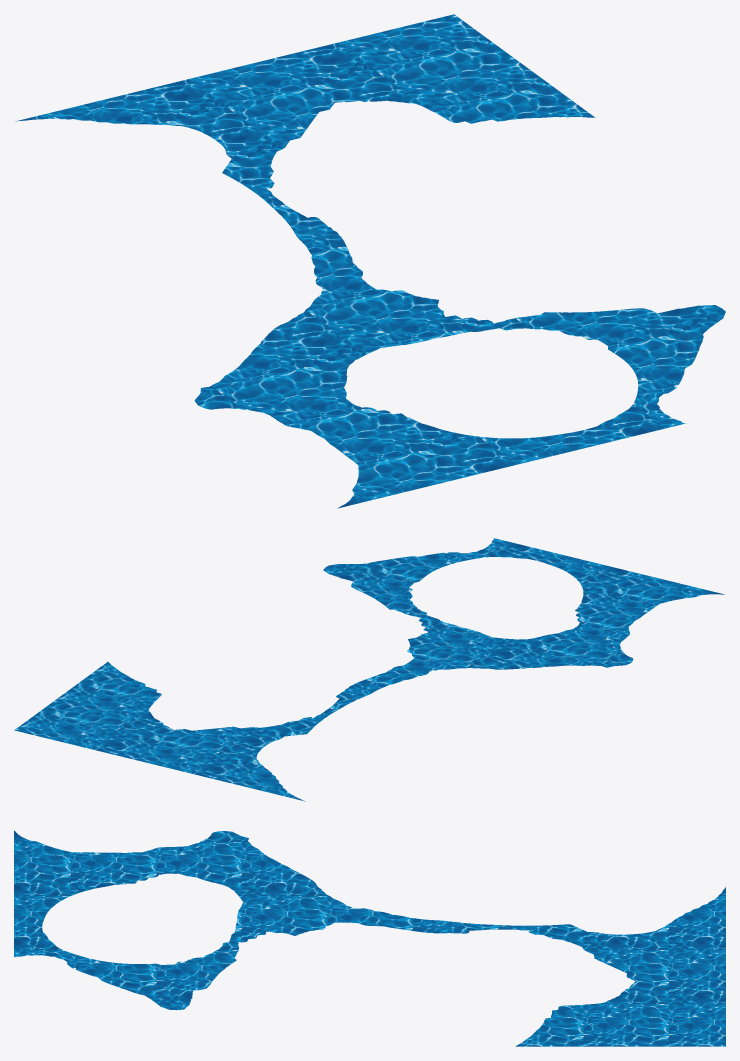
File: river.obj
3 renders of one model, top to bottom at view 1: azimuth 30°, elevation 25°; view 2: azimuth 150°, elevation 25°; view 3: azimuth 270°, elevation 25°, orthographic. The views are drawn at different scales.
Parts seen in each view (by area): view 1: Plane; view 2: Plane; view 3: Plane.
Boxes of the visible parts, left/top/right/bottom form: Plane: left=15, top=14, right=725, bottom=508; Plane: left=14, top=538, right=724, bottom=801; Plane: left=14, top=830, right=725, bottom=1046.
Size of the model in its own units: 71.94 by 0 by 100.
